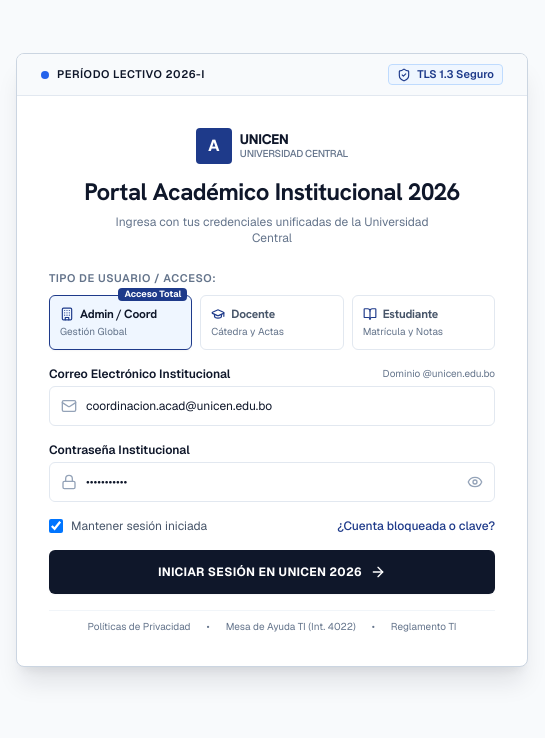
Scenario: LoginForm Integration Tests › comprueba el renderizado de errores ante credenciales inválidas
Type "usuario.invalido@unicen.edu.bo" into the field labelled "Correo Electrónico Institucional" at (272,406), box [49,386,495,426]
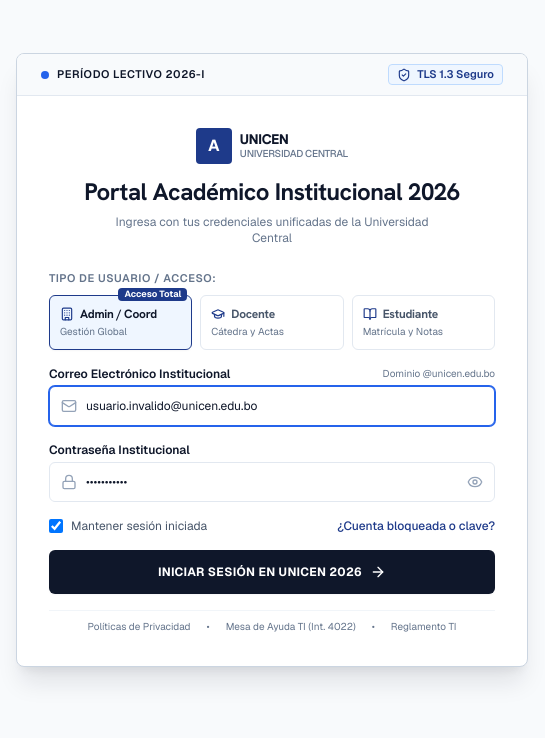
Type "ClaveIncorrecta" into the password field labelled "Contraseña Institucional" at (272,482), box [49,462,495,502]
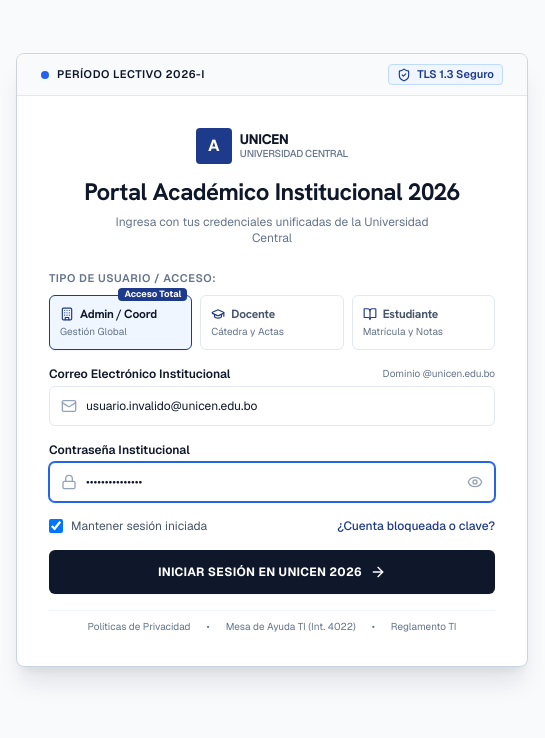
Click the button "Iniciar Sesión en UNICEN 2026" at (272,572), box [49,550,495,594]
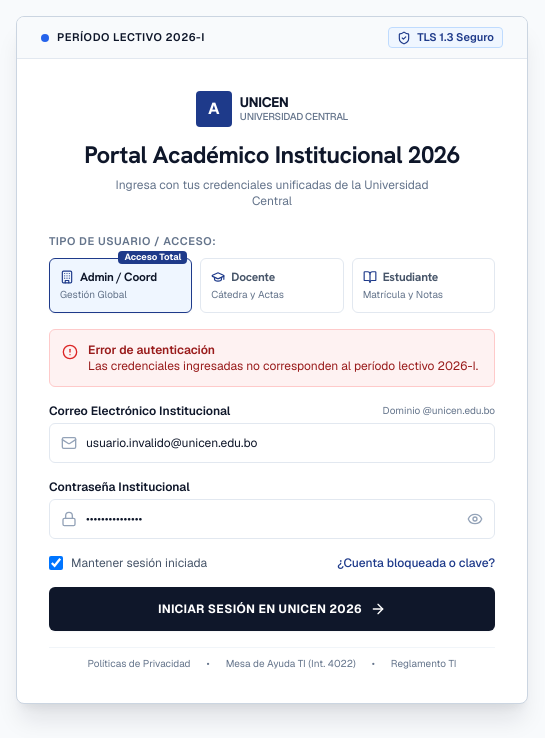
Expected: the message is shown, [49,329,495,387]
Expected: the message shows "Las credenciales ingresadas no corresponden al período lectivo 2026-I", [88,358,478,374]
